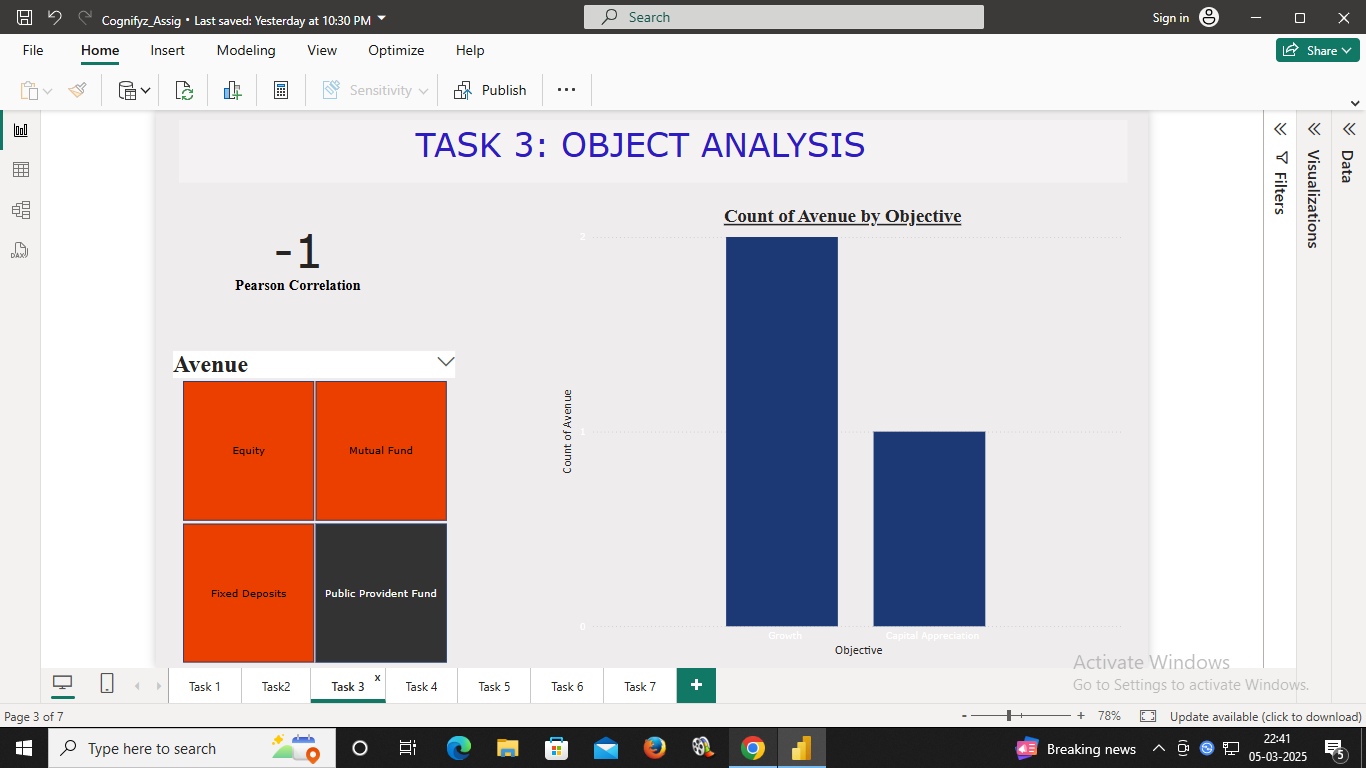

The dashboard page shown, as its layout file describes it:
{"tool":"powerbi","page":{"name":"Task 3","canvas":[1280,720],"ordinal":2},"visuals":[{"type":"card","fields":{"Values":["Data_set 2.Pearson Correlation"]},"box":[9.6,93.3,348.5,190.7],"z":0},{"type":"columnChart","fields":{"Category":["Data_set 2.Objective"],"Y":["CountNonNull(Data_set 2.Avenue)"]},"box":[517.3,123.5,736.9,587.3],"z":1000},{"type":"slicer","fields":{"Values":["Data_set 2.Avenue"]},"box":[9.6,306,389.7,414.4],"z":2000},{"type":"textbox","box":[30.2,12.3,1224,81],"z":3000}]}

Visuals, with their boxes on the page's 1280x720 design canvas (x1, y1, x2, y2). These are canvas units, not pixel positions in the 1366x768 screenshot, which may show the page scaled, cropped or inside an application window:
card - Data_set 2.Pearson Correlation: crop(10, 93, 358, 284)
columnChart - Data_set 2.Objective x CountNonNull(Data_set 2.Avenue): crop(517, 124, 1254, 711)
slicer - Data_set 2.Avenue: crop(10, 306, 399, 720)
textbox: crop(30, 12, 1254, 93)
